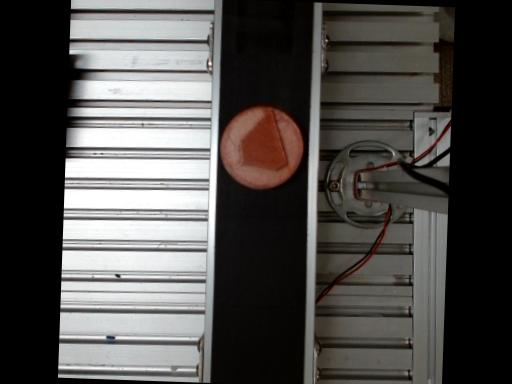Brown_Waper: (220, 105, 303, 188)
Not_Square: (241, 108, 289, 170)
